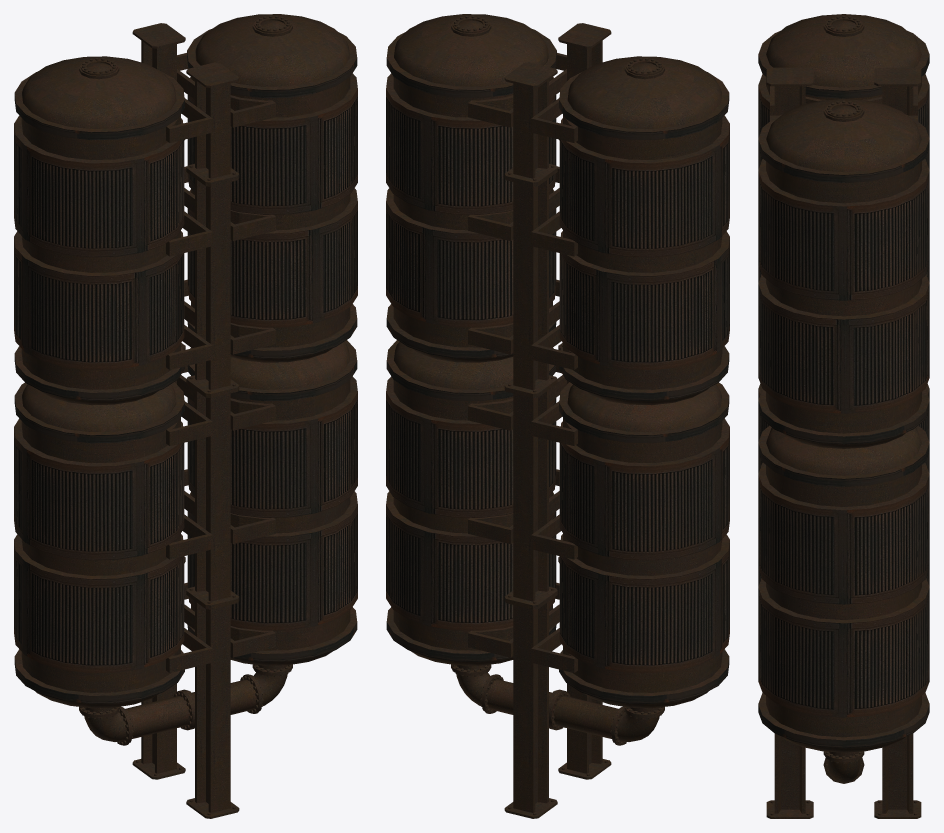
The model's file is boiler_hx_3.obj.
3 views of the same model, side by side, from view 1: azimuth 30°, elevation 25°; view 2: azimuth 150°, elevation 25°; view 3: azimuth 270°, elevation 25° (orthographic).
Parts seen in each view (by area): view 1: boiler_hx_3; view 2: boiler_hx_3; view 3: boiler_hx_3.
Part boxes in pixels (left/top/right/bottom): boiler_hx_3: left=14, top=14, right=357, bottom=818; boiler_hx_3: left=386, top=14, right=729, bottom=818; boiler_hx_3: left=758, top=14, right=929, bottom=818.
Bounding box in the file's own units: 4.78 × 10.55 × 2.2.
